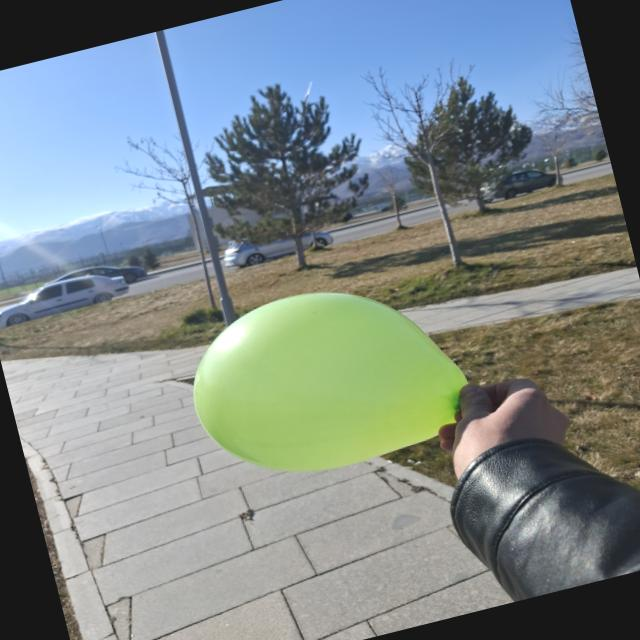balloon: (193, 292, 466, 470)
